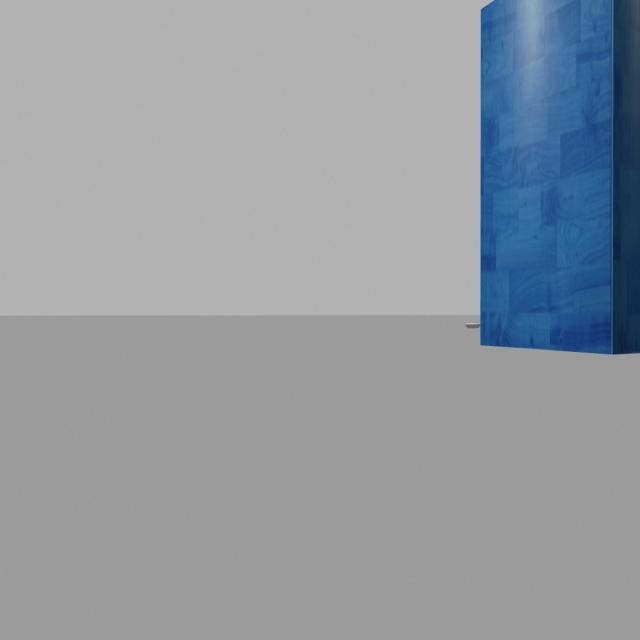bowl: (463, 318, 483, 337)
shelf: (475, 0, 640, 369)
